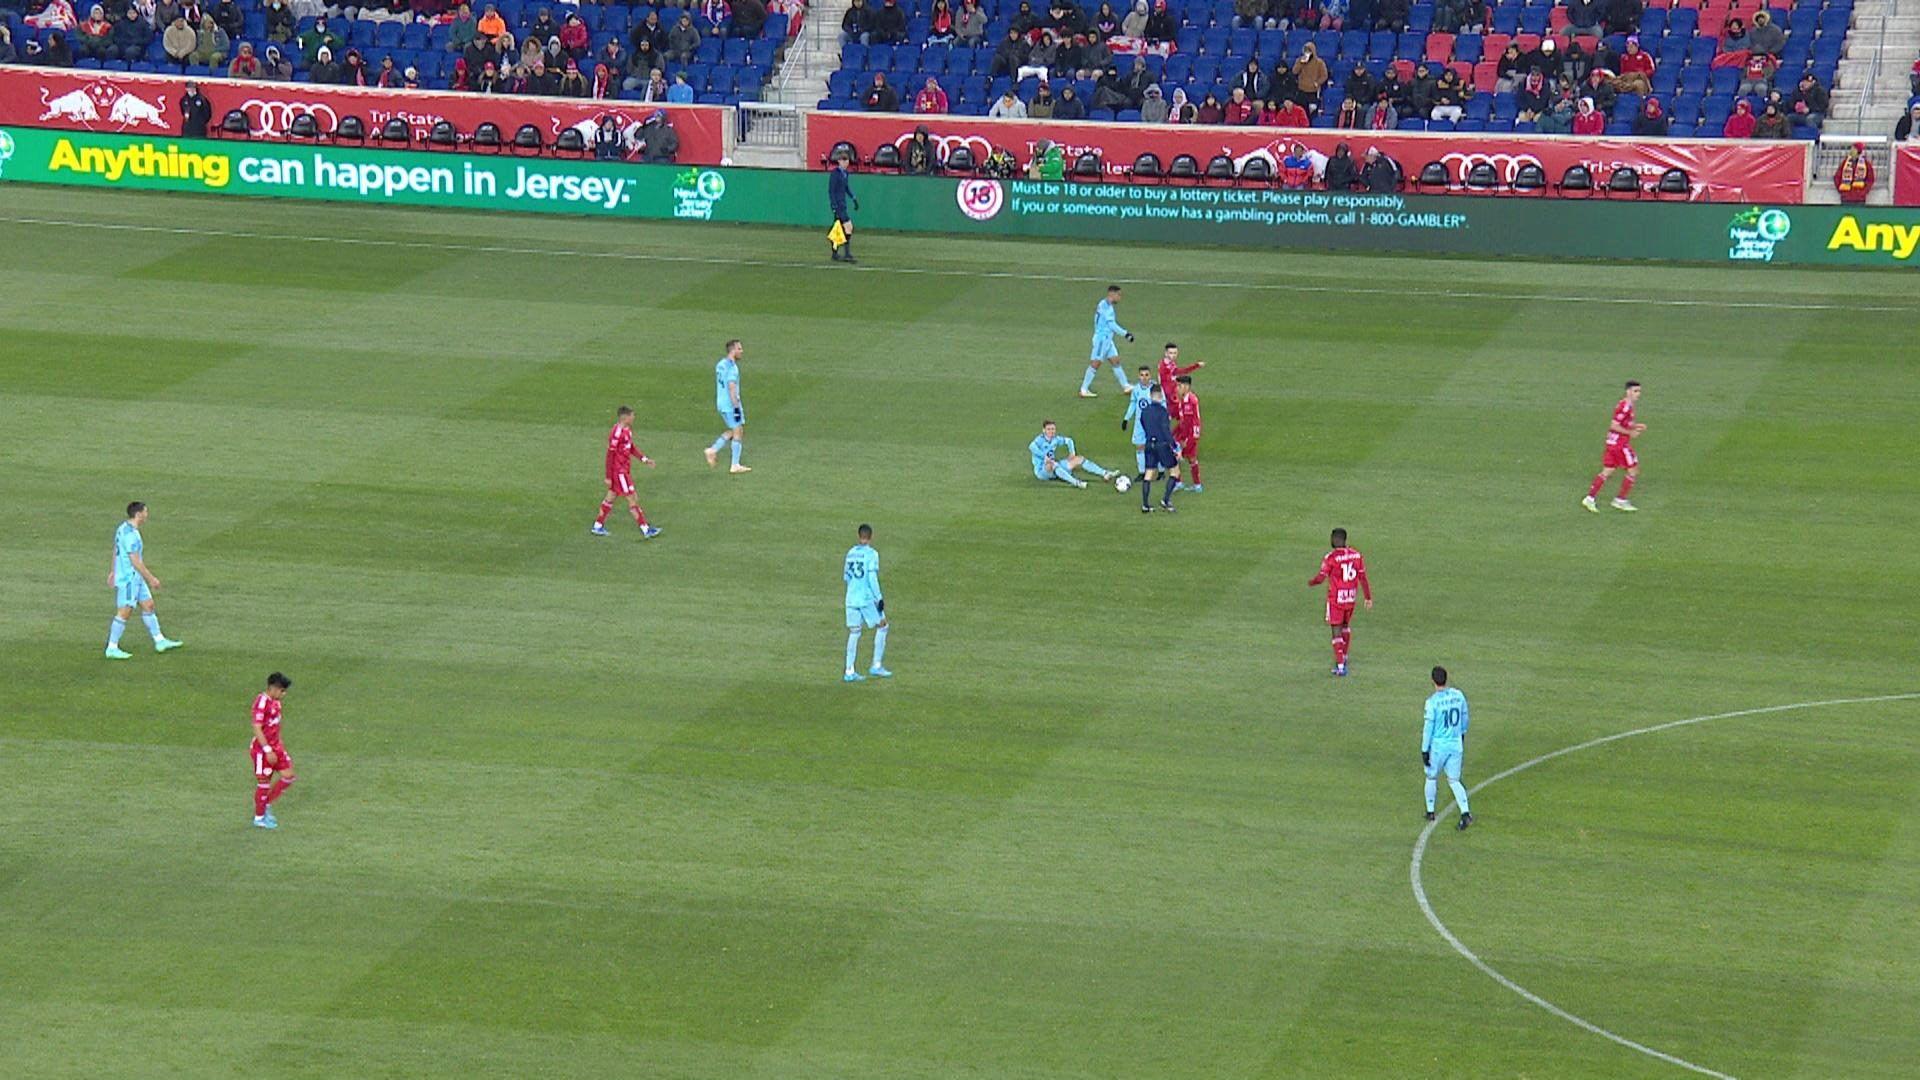football: (1114, 475, 1133, 493)
